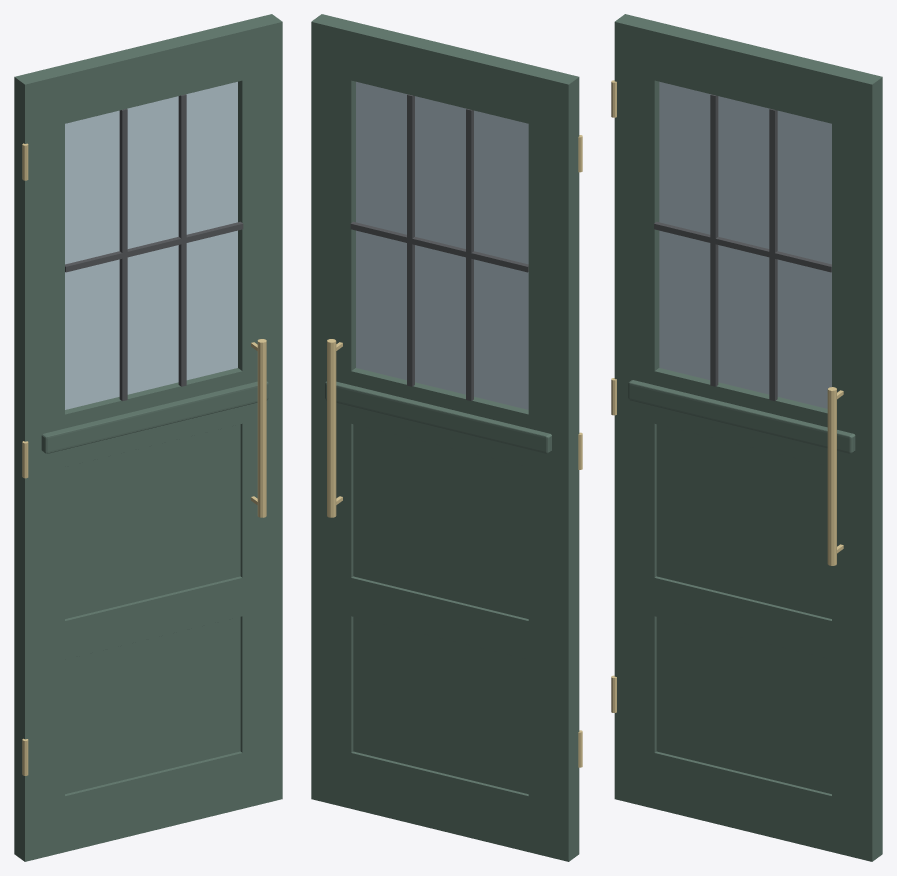
Rendered from door_leaf_front.glb.
3 views of the same model, side by side, from view 1: azimuth 30°, elevation 25°; view 2: azimuth 150°, elevation 25°; view 3: azimuth 330°, elevation 25° (orthographic).
Parts seen in each view (by area): view 1: door_leaf_front_door, door_leaf_front_glass, door_leaf_front_iron, door_leaf_front_brass; view 2: door_leaf_front_door, door_leaf_front_glass, door_leaf_front_iron, door_leaf_front_brass; view 3: door_leaf_front_door, door_leaf_front_glass, door_leaf_front_iron, door_leaf_front_brass.
Boxes of the visible parts, bbox=[...] form: door_leaf_front_door: bbox=[14, 14, 282, 861]; door_leaf_front_glass: bbox=[65, 81, 237, 409]; door_leaf_front_iron: bbox=[65, 94, 243, 401]; door_leaf_front_brass: bbox=[22, 143, 266, 775]; door_leaf_front_door: bbox=[311, 14, 579, 861]; door_leaf_front_glass: bbox=[356, 81, 528, 409]; door_leaf_front_iron: bbox=[350, 94, 528, 401]; door_leaf_front_brass: bbox=[327, 135, 582, 767]; door_leaf_front_door: bbox=[614, 14, 882, 861]; door_leaf_front_glass: bbox=[659, 81, 831, 408]; door_leaf_front_iron: bbox=[654, 94, 831, 401]; door_leaf_front_brass: bbox=[611, 80, 843, 712].
Bounding box in the file's own units: 0.778 × 2.22 × 0.1778.
